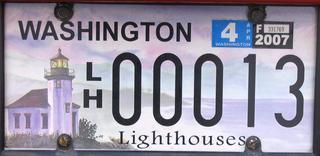placa de veiculo: (5, 3, 313, 154)
